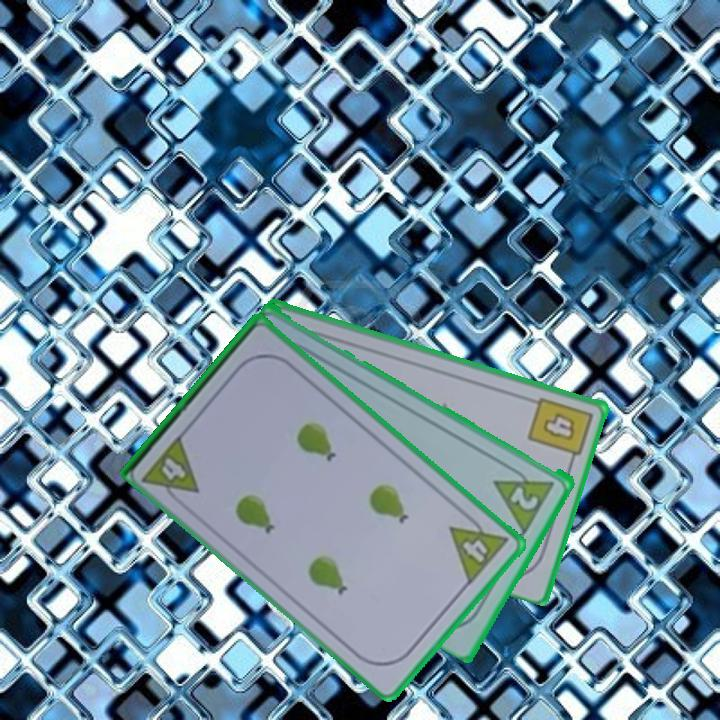2p: (490, 459, 559, 535)
4b: (524, 393, 596, 468)
4p: (446, 507, 511, 588), (140, 430, 202, 510)
